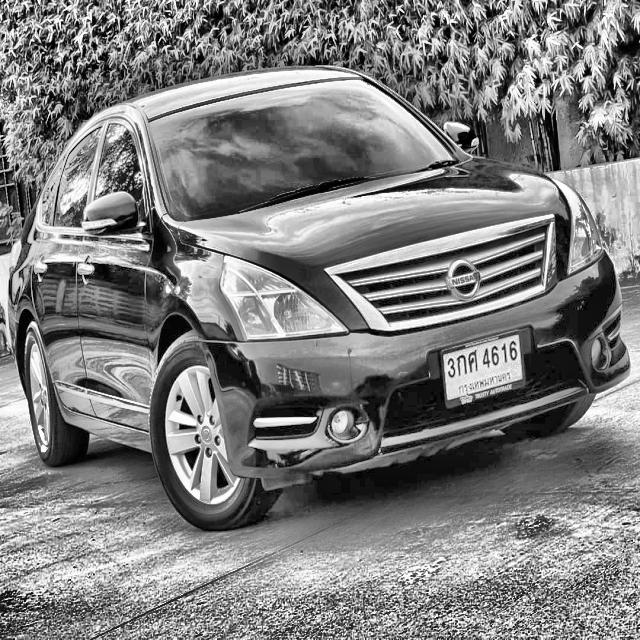license-plate: (440, 329, 526, 412)
